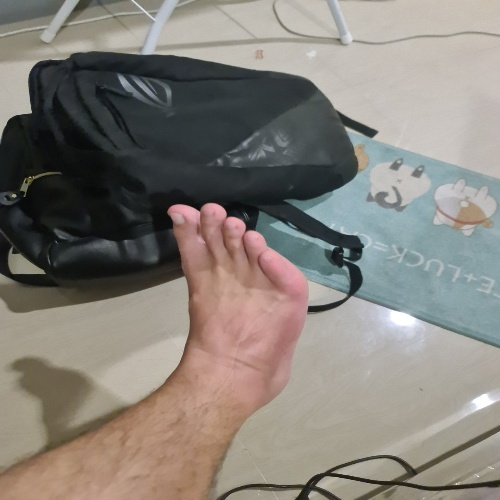3: (167, 205, 211, 270)
4: (253, 354, 291, 403)
Top_Foot: (168, 200, 307, 413)
